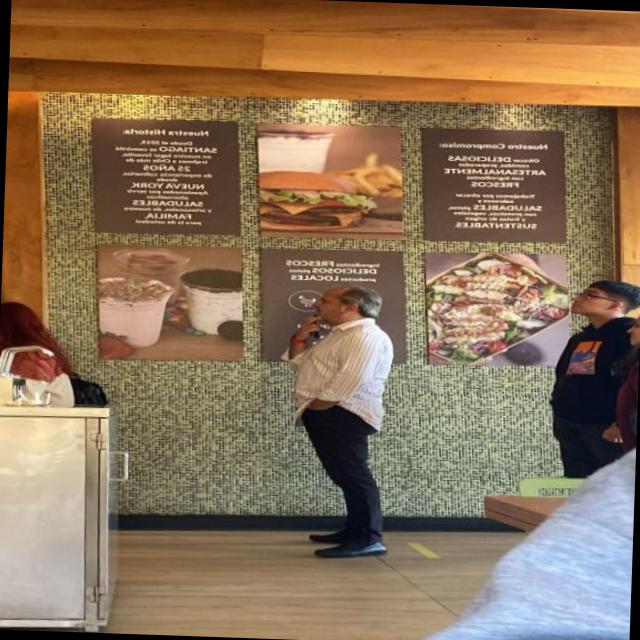person: (240, 275, 410, 564), (537, 273, 637, 477), (573, 301, 640, 458)
